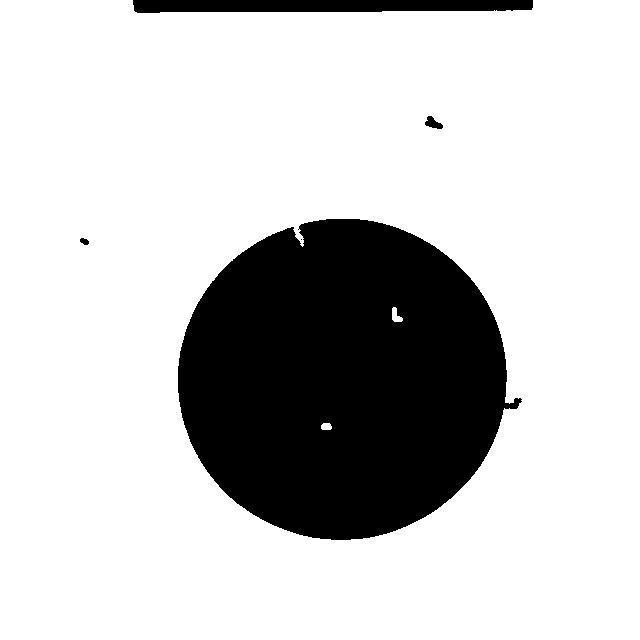copper: (417, 108, 450, 136), (72, 230, 96, 252)
mousebite: (284, 213, 312, 255)
pin-hole: (384, 299, 410, 329), (313, 415, 339, 437)
spur: (491, 389, 530, 417)
